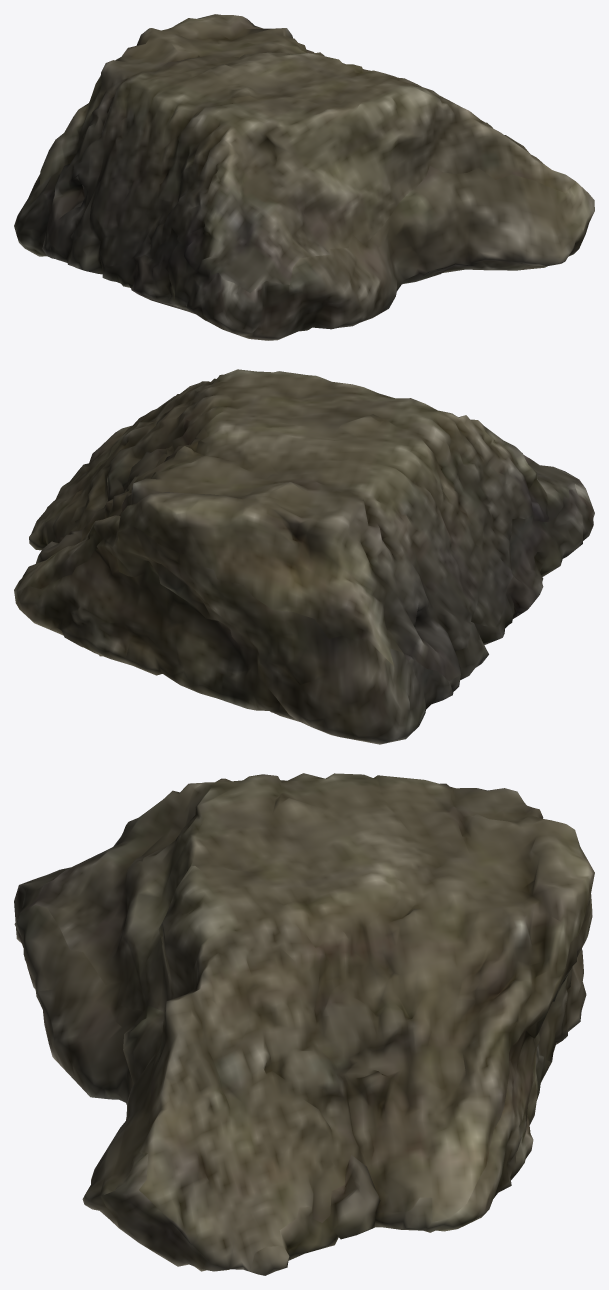
Rendered from rock_moss_set_02.glb.
3 views of the same model, one above another, from view 1: azimuth 30°, elevation 25°; view 2: azimuth 150°, elevation 25°; view 3: azimuth 270°, elevation 25° (orthographic). The views are drawn at different scales.
Parts seen in each view (by area): view 1: rock_moss_set_02_rock08; view 2: rock_moss_set_02_rock08; view 3: rock_moss_set_02_rock08.
Boxes of the visible parts, x1=… form: rock_moss_set_02_rock08: x1=14, y1=14, x2=594, y2=340; rock_moss_set_02_rock08: x1=14, y1=369, x2=594, y2=744; rock_moss_set_02_rock08: x1=14, y1=773, x2=594, y2=1275.
Size of the model in its own units: 1.21 by 0.5287 by 0.9836.
Materials: 1 (1 with a texture image).
